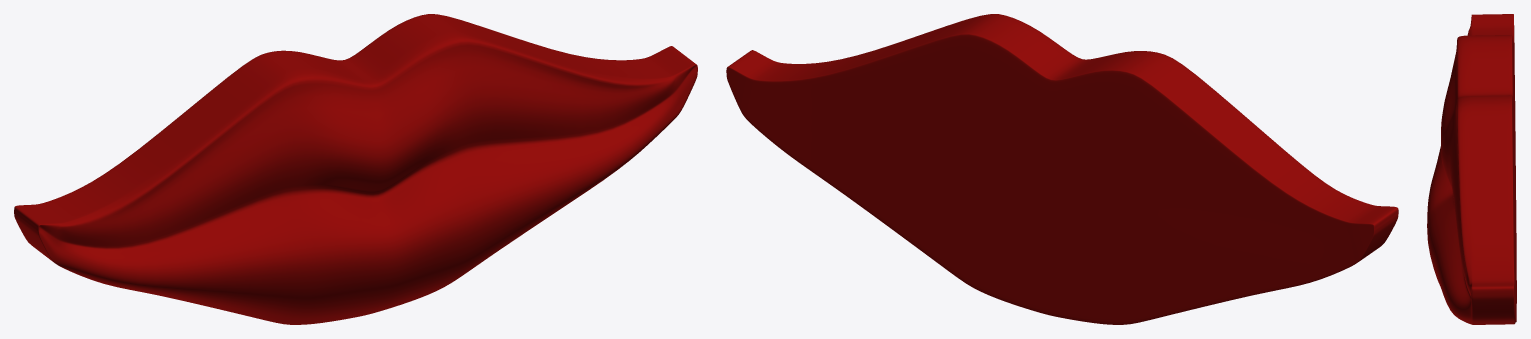
Rendered from lips.glb.
3 renders of one model, left to right at view 1: azimuth 30°, elevation 25°; view 2: azimuth 150°, elevation 25°; view 3: azimuth 270°, elevation 25°, orthographic. The views are drawn at different scales.
Visible parts, largest first — view 1: 12191_lips_v1_L3; view 2: 12191_lips_v1_L3; view 3: 12191_lips_v1_L3.
Part boxes in pixels (bbox=[...]): 12191_lips_v1_L3: bbox=[14, 14, 697, 324]; 12191_lips_v1_L3: bbox=[726, 14, 1398, 324]; 12191_lips_v1_L3: bbox=[1427, 14, 1516, 324].
Size of the model in its own units: 7.64 by 2.94 by 1.06.
